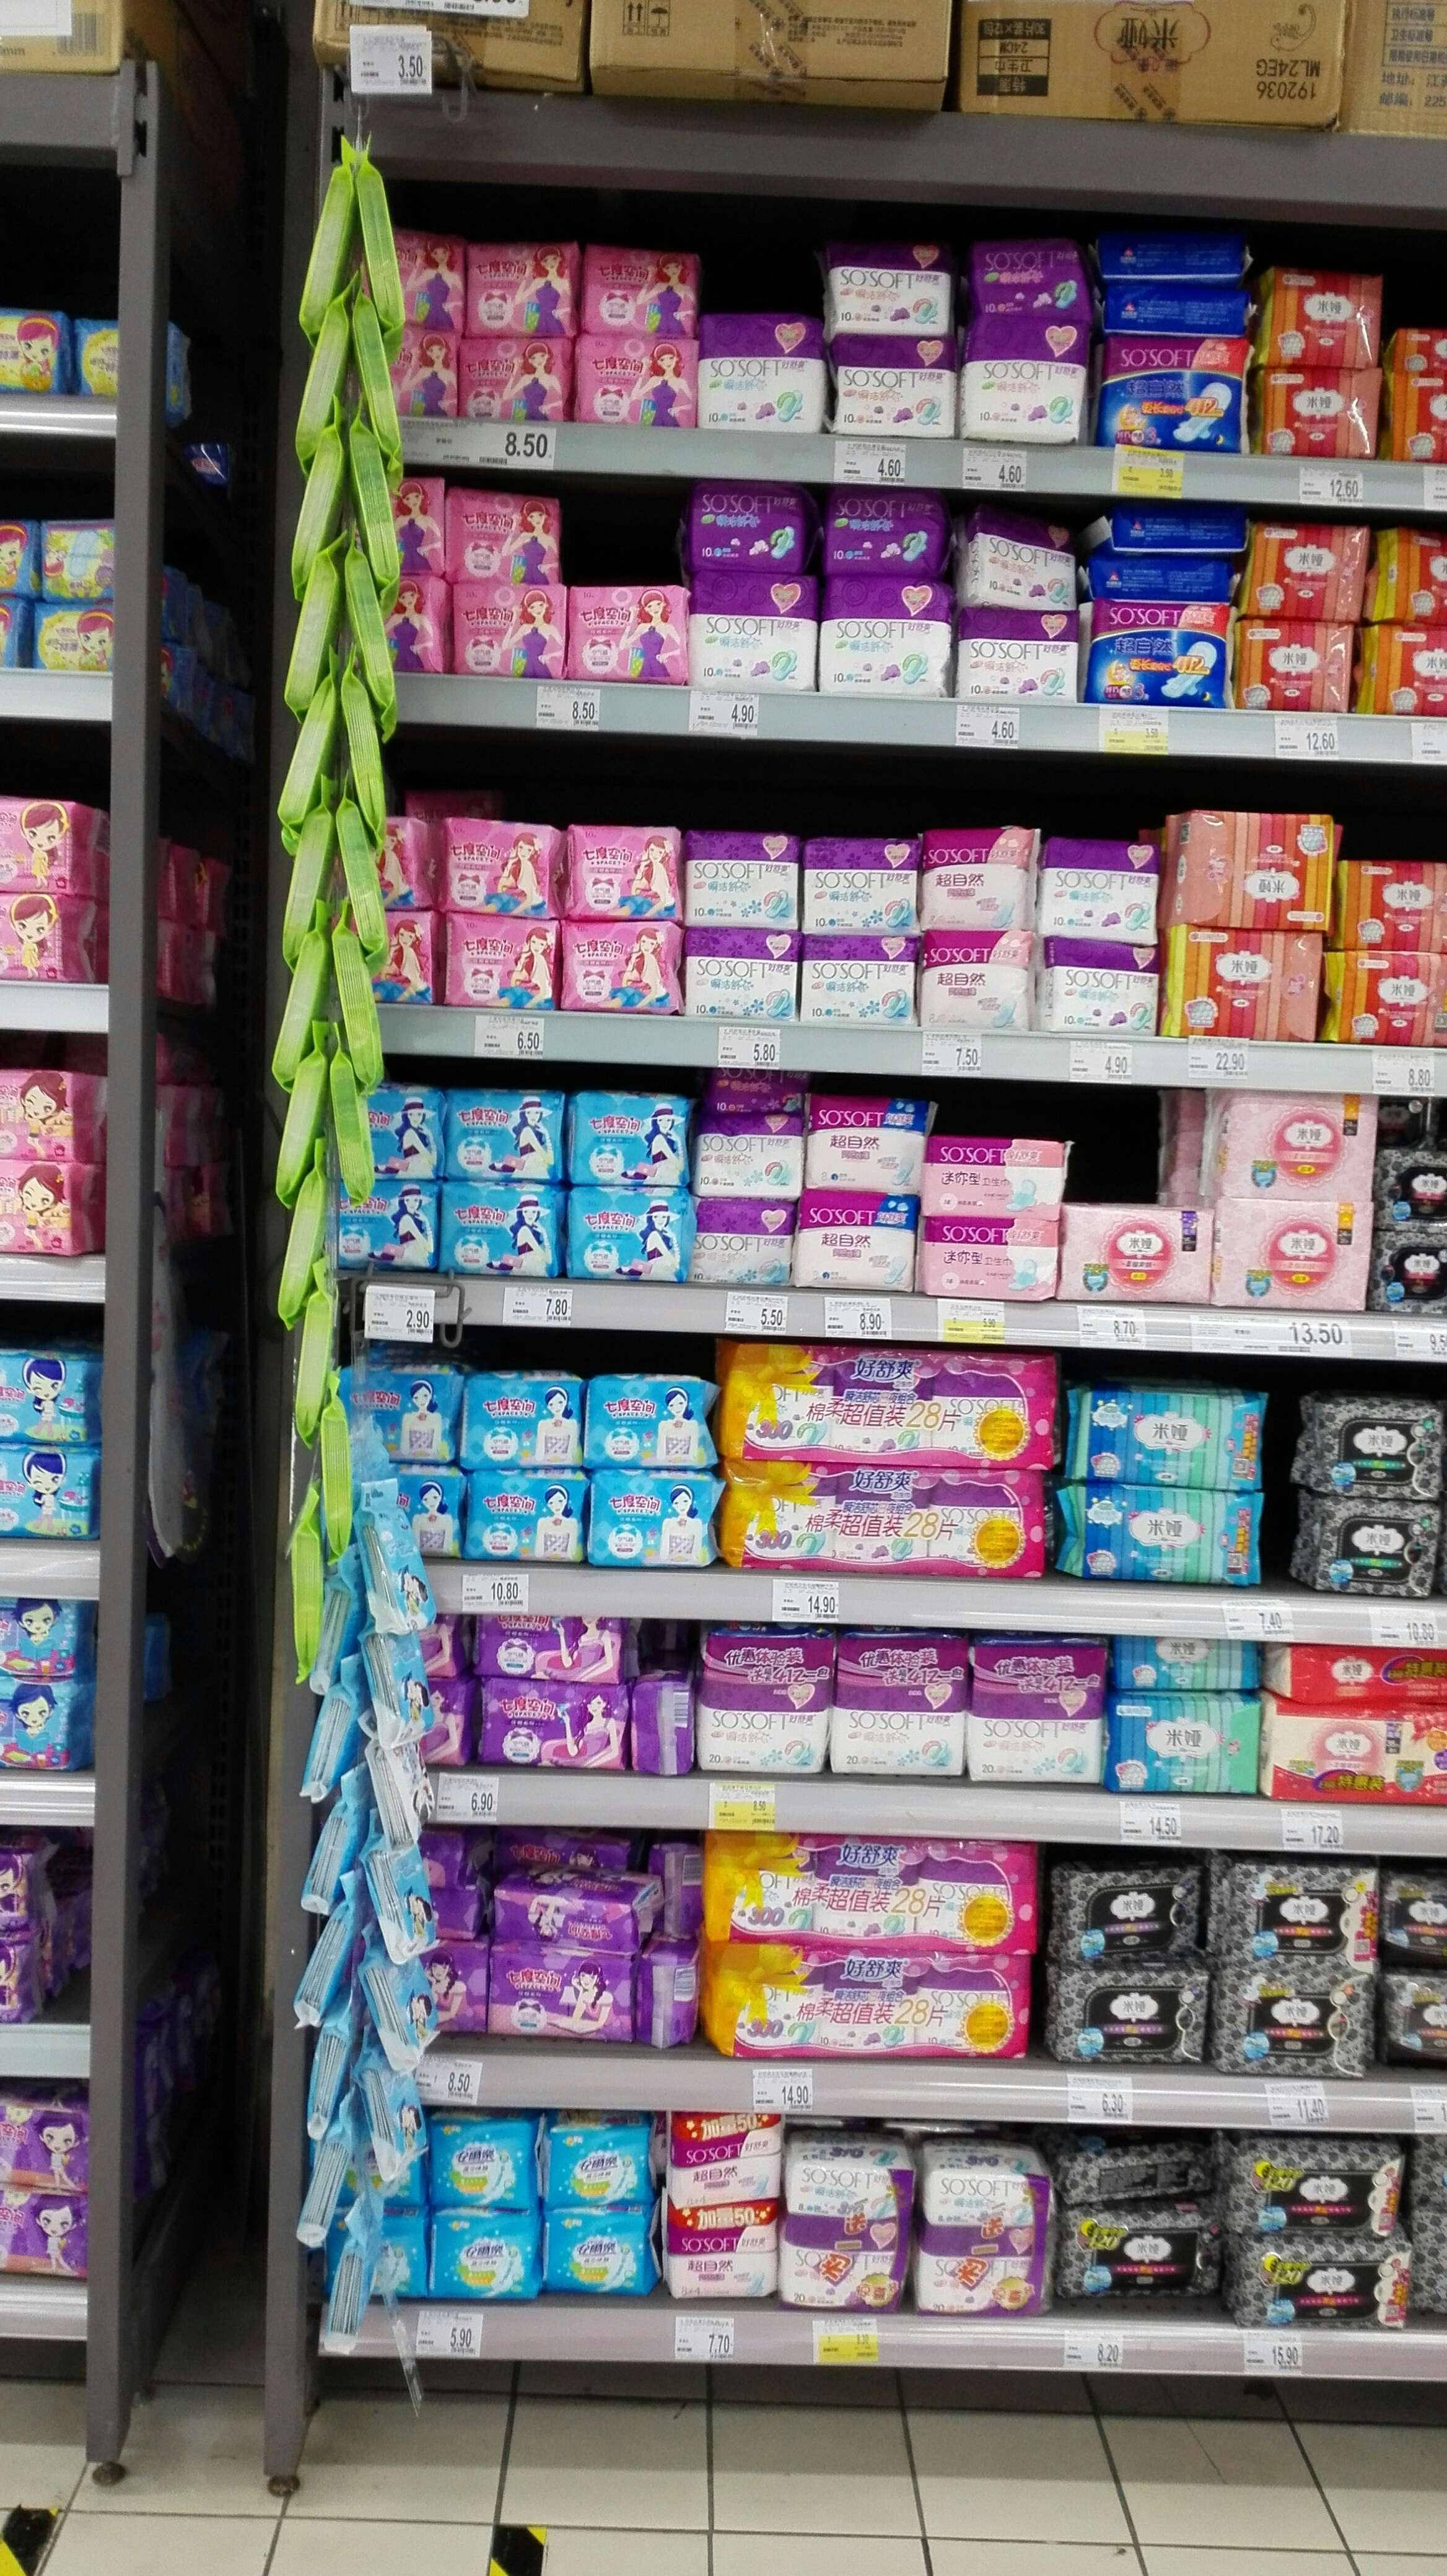empty: (550, 474, 672, 584), (1070, 1093, 1176, 1207)
